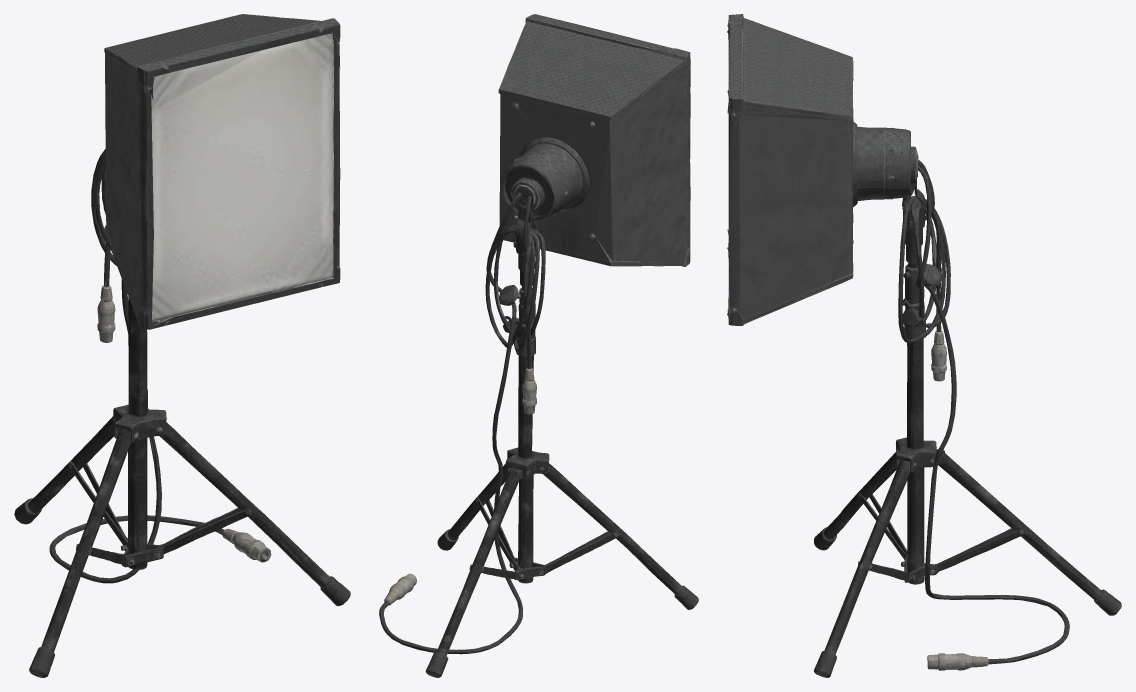
File: milked-softbox.glb
3 renders of one model, left to right at view 1: azimuth 30°, elevation 25°; view 2: azimuth 150°, elevation 25°; view 3: azimuth 270°, elevation 25°, orthographic. The views are drawn at different scales.
Parts seen in each view (by area): view 1: output_unwrapped; view 2: output_unwrapped; view 3: output_unwrapped.
Part boxes in pixels (x1,y1,x2,y2): output_unwrapped: (14,14,350,677); output_unwrapped: (379,14,698,677); output_unwrapped: (727,14,1121,677).
Size of the model in its own units: 0.9998 by 1.9 by 1.22.
1 material, 1 textured.
